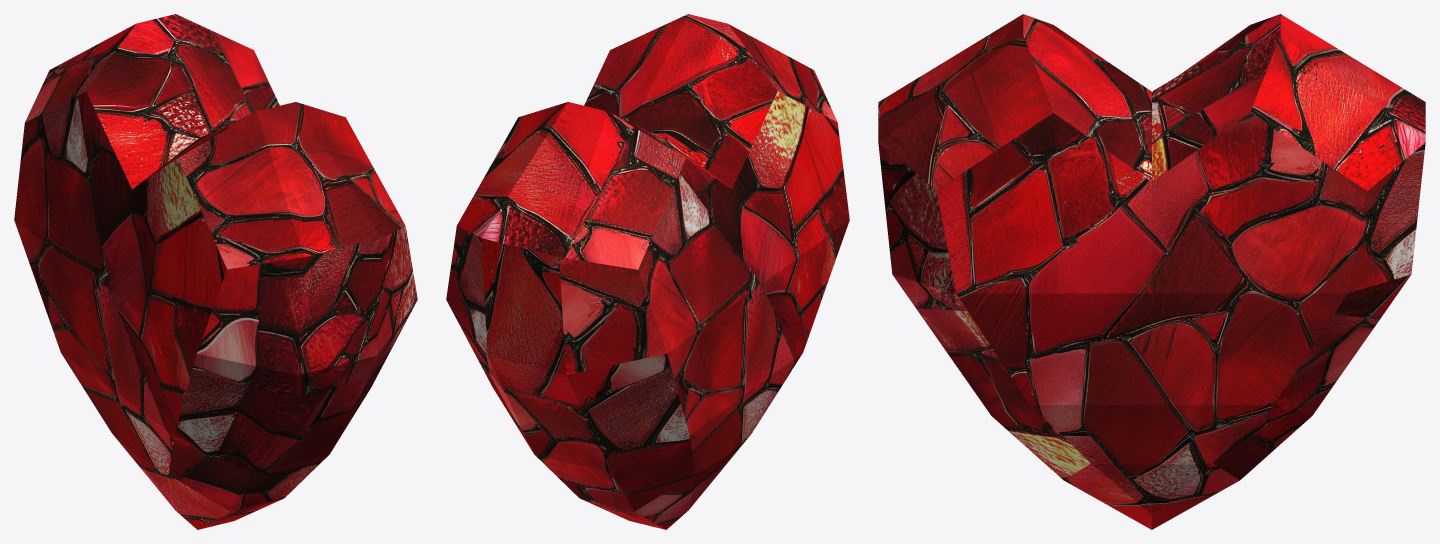
File: gemstone1Red.glb
The picture shows the model from 3 angles, left to right: view 1: azimuth 30°, elevation 25°; view 2: azimuth 150°, elevation 25°; view 3: azimuth 270°, elevation 25°; orthographic projection. The views are drawn at different scales.
Visible parts, largest first — view 1: geamstoneHeart; view 2: geamstoneHeart; view 3: geamstoneHeart.
Boxes of the visible parts, x1=… form: geamstoneHeart: x1=14, y1=14, x2=417, y2=529; geamstoneHeart: x1=446, y1=14, x2=849, y2=529; geamstoneHeart: x1=878, y1=14, x2=1425, y2=529.
Size of the model in its own units: 0.5 by 1 by 1.
Materials: 1 (1 with a texture image).
